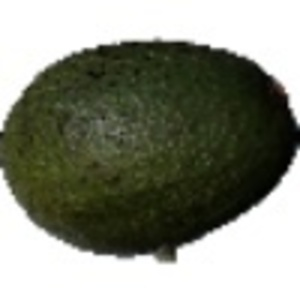abacate: (2, 34, 297, 257)
